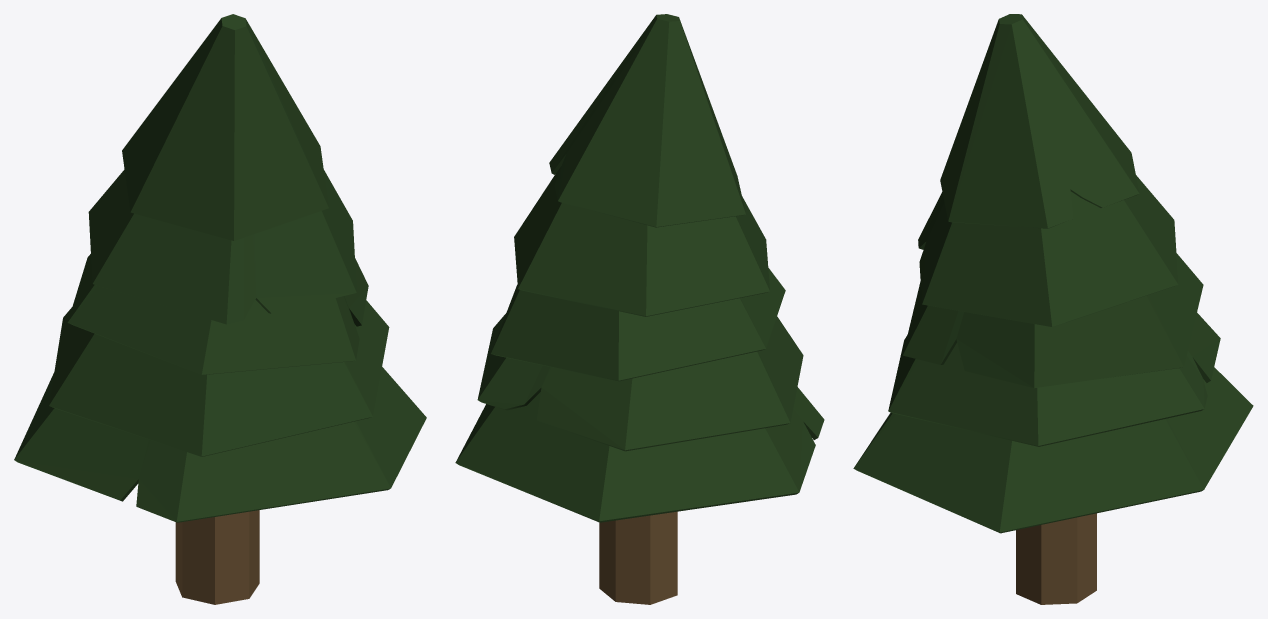
File: Sapin_03.fbx
3 views of the same model, side by side, from view 1: azimuth 30°, elevation 25°; view 2: azimuth 150°, elevation 25°; view 3: azimuth 270°, elevation 25° (orthographic). The views are drawn at different scales.
Parts seen in each view (by area): view 1: Sapin_03; view 2: Sapin_03; view 3: Sapin_03.
Boxes of the visible parts, bbox=[...] form: Sapin_03: bbox=[14, 14, 426, 604]; Sapin_03: bbox=[455, 14, 824, 604]; Sapin_03: bbox=[853, 14, 1253, 604].
Size of the model in its own units: 366 by 559 by 356.
Materials: 1 (1 with a texture image).
